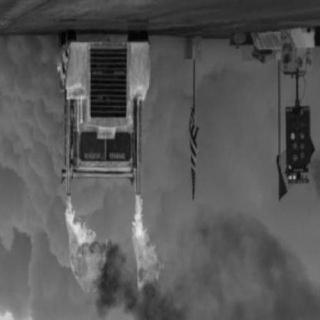Fire: (51, 203, 118, 297)
Smoke: (156, 53, 284, 311), (0, 45, 60, 318)
other: (61, 42, 153, 174)
